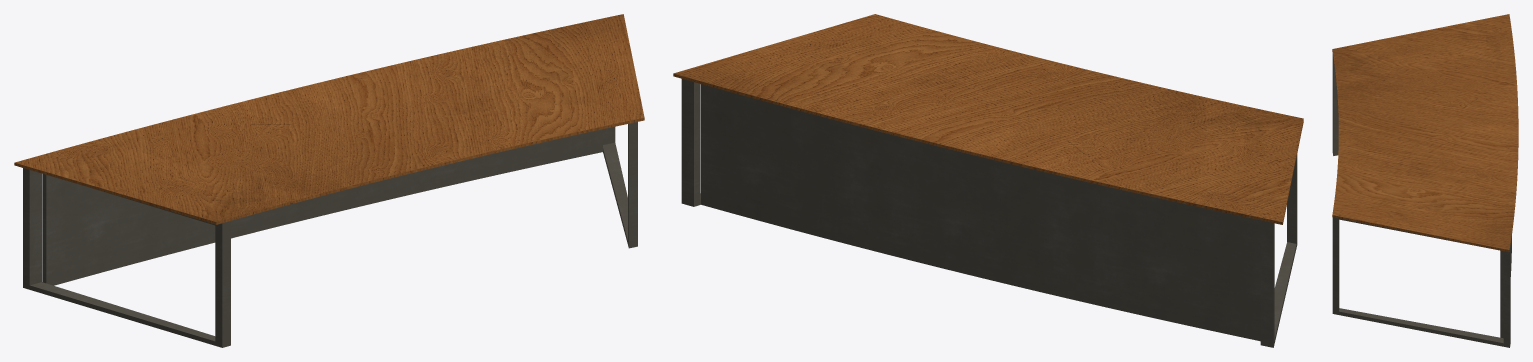
File: Desk.fbx
3 renders of one model, left to right at view 1: azimuth 30°, elevation 25°; view 2: azimuth 150°, elevation 25°; view 3: azimuth 270°, elevation 25°, orthographic. The views are drawn at different scales.
Parts seen in each view (by area): view 1: Cube; view 2: Cube; view 3: Cube.
Boxes of the visible parts, bbox=[...] form: Cube: bbox=[14, 14, 644, 347]; Cube: bbox=[673, 14, 1303, 347]; Cube: bbox=[1332, 14, 1518, 347].
Bounding box in the file's own units: 300 × 60 × 100.
1 material, 1 textured.
